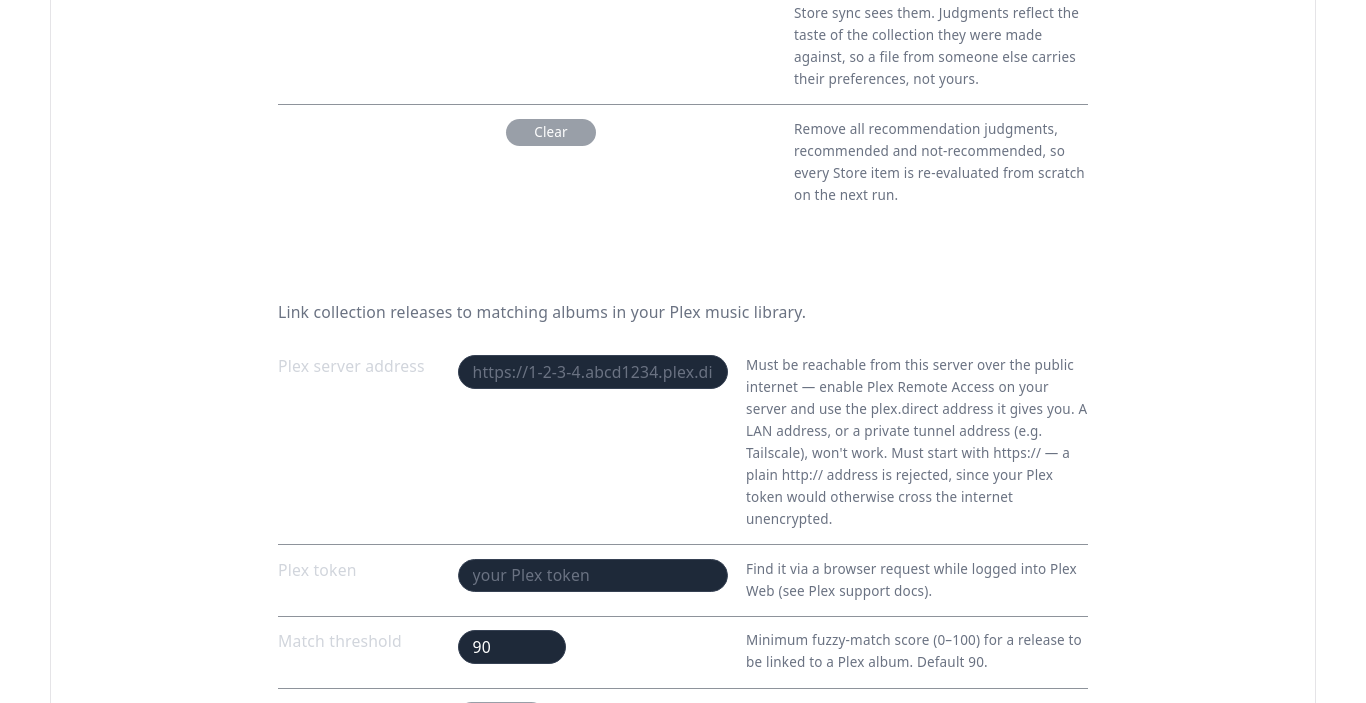
Test: Account › shows a clean error message (not raw JSON) when an auto-save fails
(page scrolled)
Type "http://bad-address" into the field named "Plex server address" at coordinates (593, 372), box [458, 355, 728, 389]
Wait 800 ms
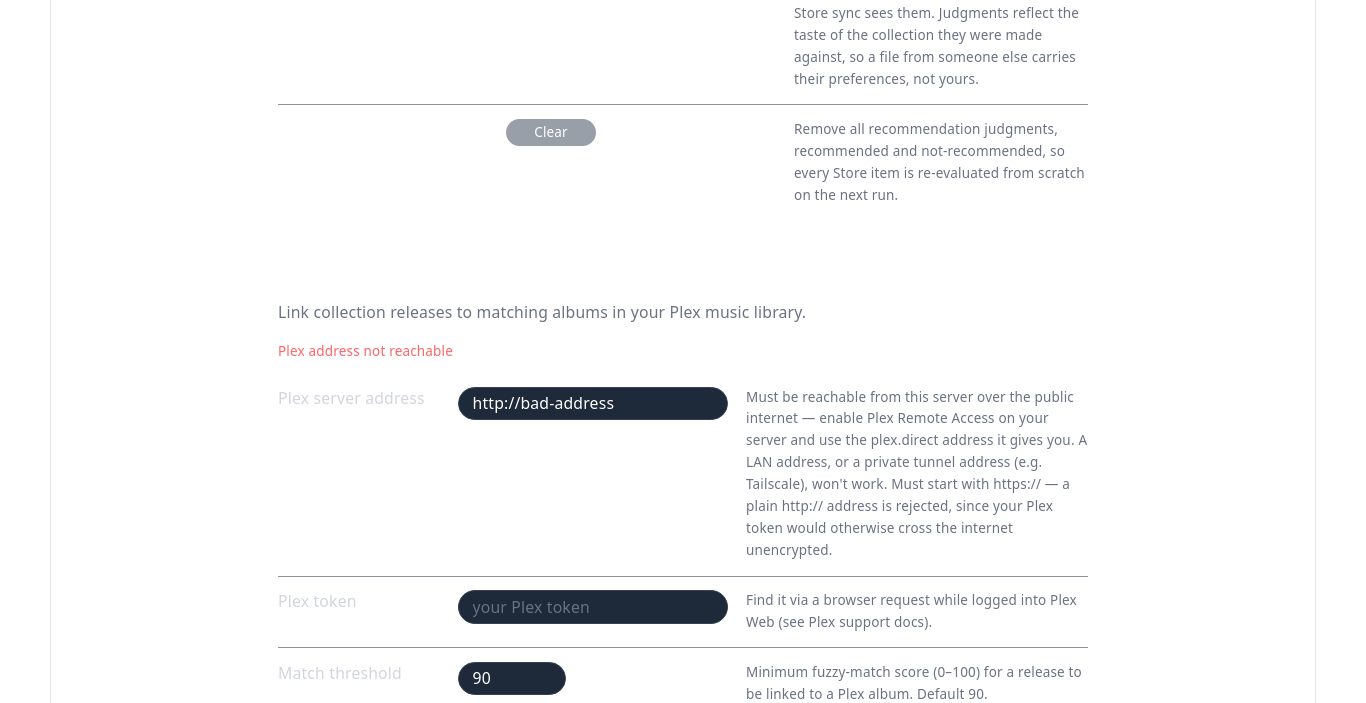
Check: the text "Plex address not reachable" is shown, box [278, 342, 453, 360]
